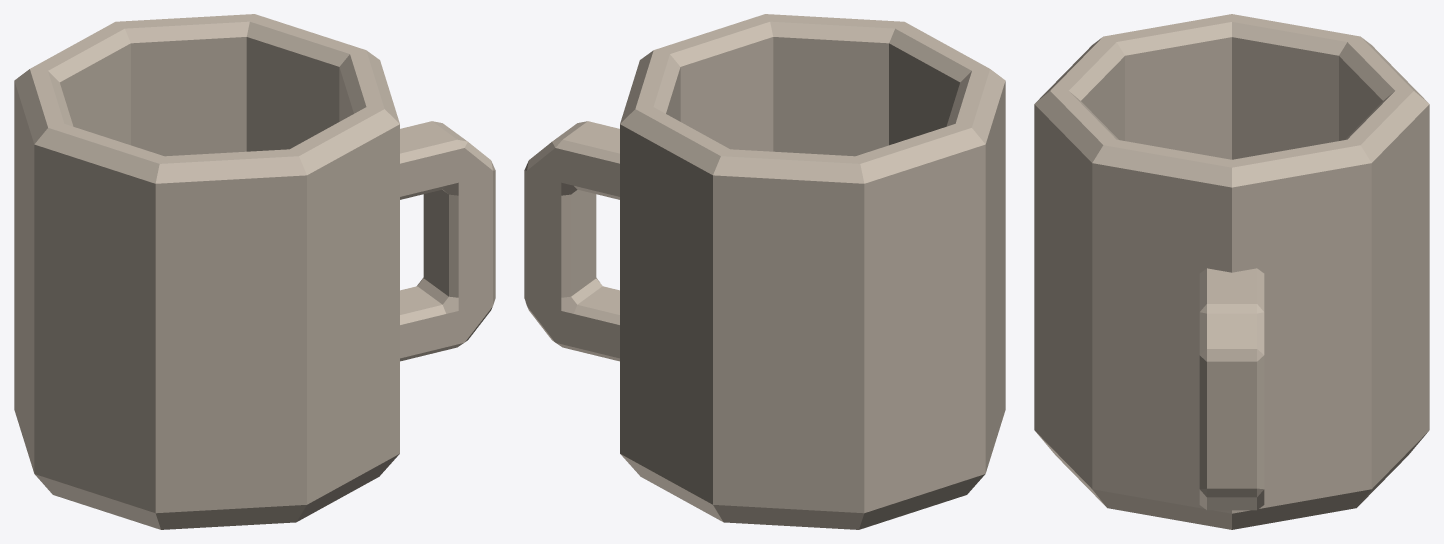
The model's file is mug.glb.
The picture shows the model from 3 angles, left to right: view 1: azimuth 30°, elevation 25°; view 2: azimuth 150°, elevation 25°; view 3: azimuth 270°, elevation 25°; orthographic projection.
Visible parts, largest first — view 1: Mug; view 2: Mug; view 3: Mug.
Boxes of the visible parts, <box> form: Mug: <box>14,14,495,529</box>; Mug: <box>524,14,1005,529</box>; Mug: <box>1034,14,1429,529</box>.
Bounding box in the file's own units: 0.136 × 0.1087 × 0.1048.
